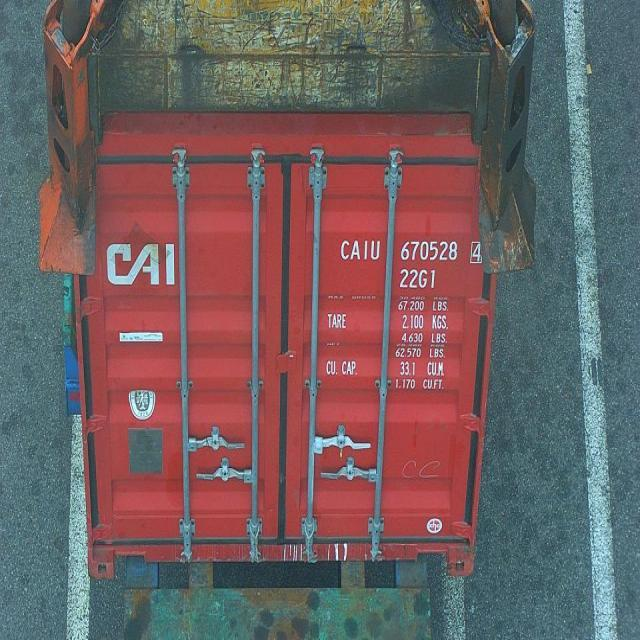ISO: (399, 268, 436, 290)
container_number: (339, 238, 487, 268)
